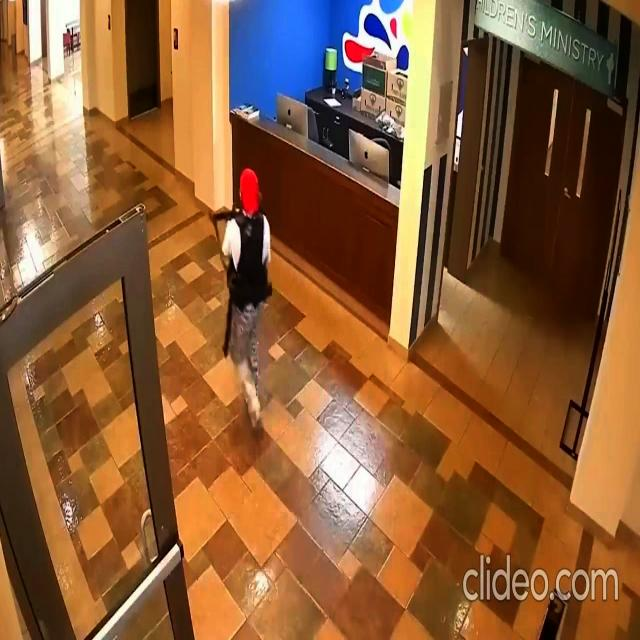gun: (209, 164, 275, 433), (222, 257, 236, 359), (208, 205, 244, 223)
